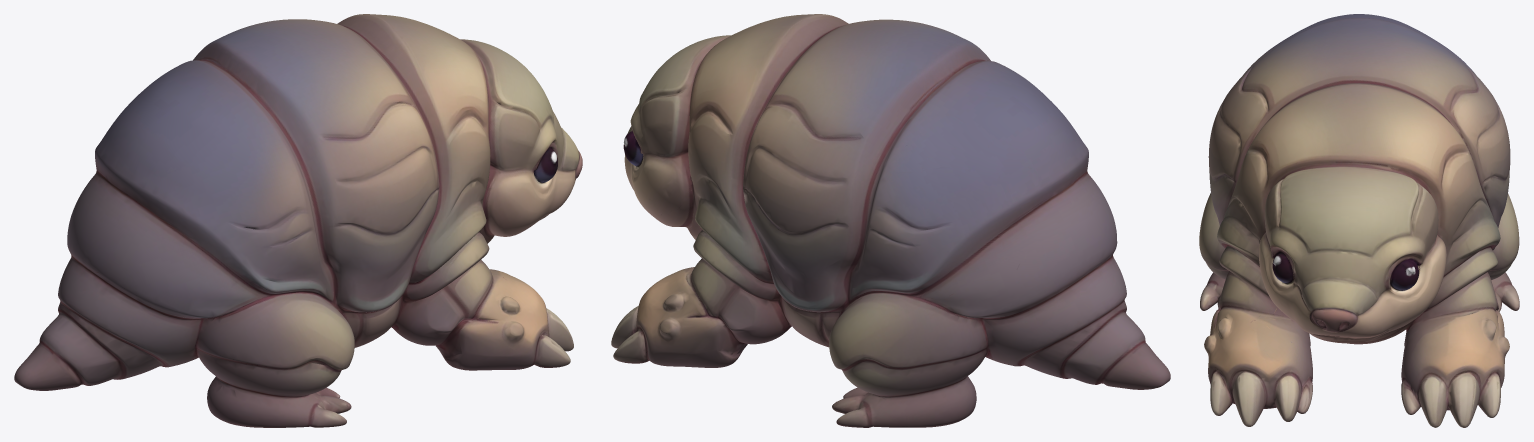
Rendered from burrower.glb.
The picture shows the model from 3 angles, left to right: view 1: azimuth 30°, elevation 25°; view 2: azimuth 150°, elevation 25°; view 3: azimuth 270°, elevation 25°; orthographic projection. The views are drawn at different scales.
Visible parts, largest first — view 1: node_0; view 2: node_0; view 3: node_0.
Part boxes in pixels (x1,y1,x2,y2): node_0: [14, 14, 582, 427]; node_0: [611, 14, 1170, 427]; node_0: [1199, 14, 1519, 427].
Size of the model in its own units: 1.11 by 0.6202 by 0.6131.
1 material, 1 textured.
